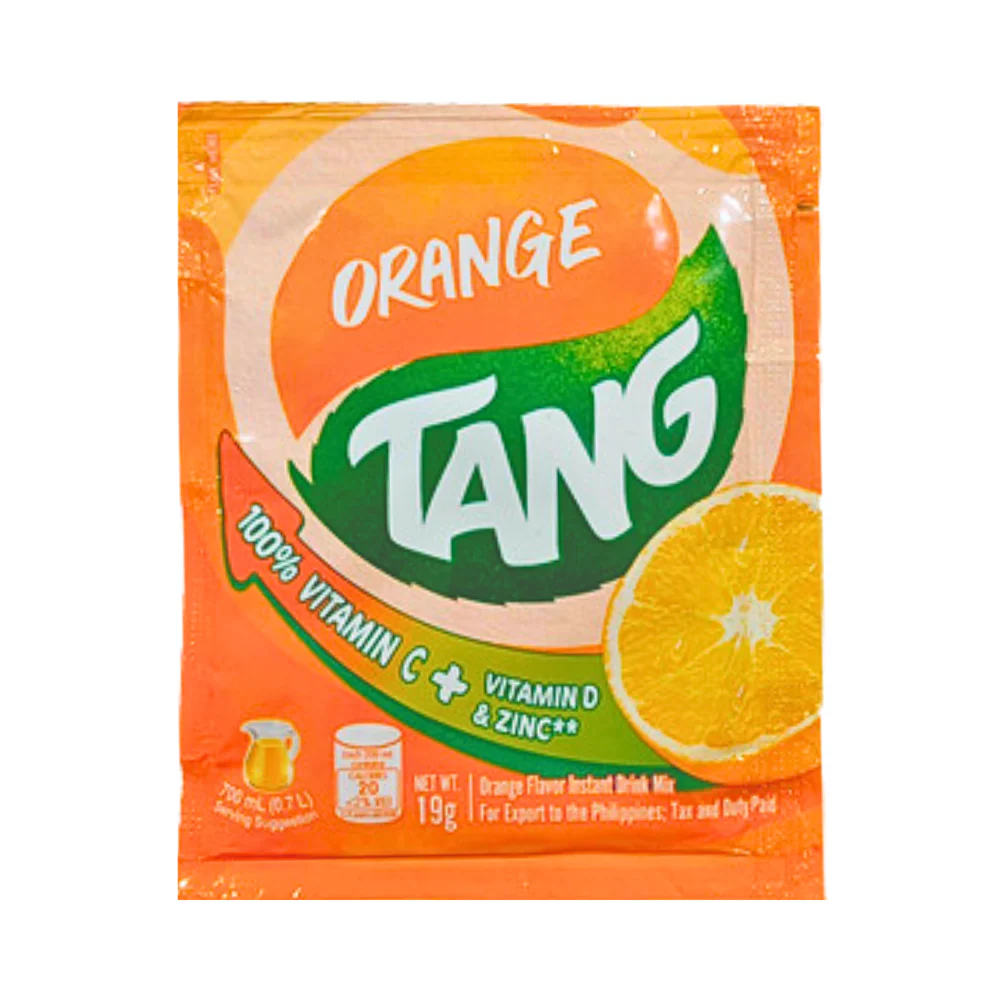non-toxic_waste: (182, 100, 815, 887)
